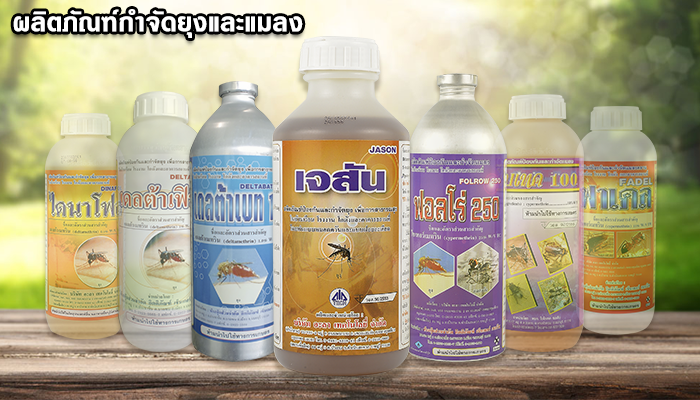Insecticide: (267, 31, 415, 381), (406, 70, 510, 365), (184, 76, 279, 368), (489, 91, 586, 355), (111, 85, 199, 357), (573, 99, 659, 343), (39, 109, 122, 343)
